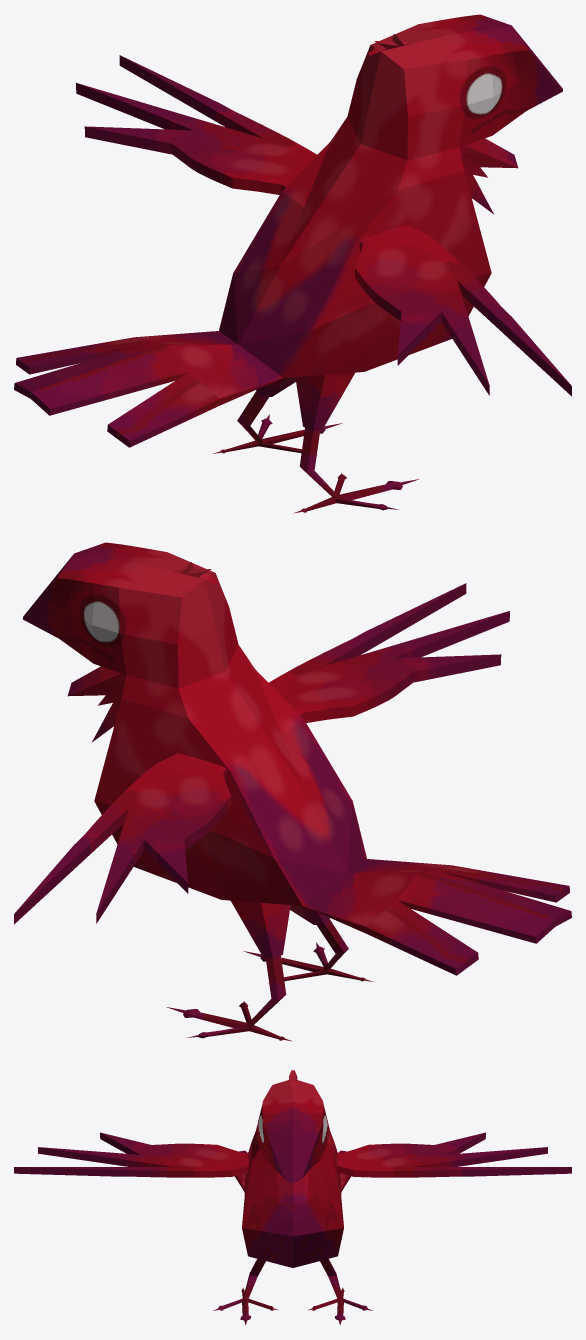
The model's file is corvo_fix.fbx.
3 views of the same model, one above another, from view 1: azimuth 30°, elevation 25°; view 2: azimuth 150°, elevation 25°; view 3: azimuth 270°, elevation 25° (orthographic). The views are drawn at different scales.
Parts seen in each view (by area): view 1: corvo_fix; view 2: corvo_fix; view 3: corvo_fix.
Boxes of the visible parts, left/top/right/bottom form: corvo_fix: left=14, top=14, right=571, bottom=513; corvo_fix: left=14, top=542, right=571, bottom=1041; corvo_fix: left=14, top=1070, right=571, bottom=1325.
Bounding box in the file's own units: 47.8 × 35.63 × 70.36.
